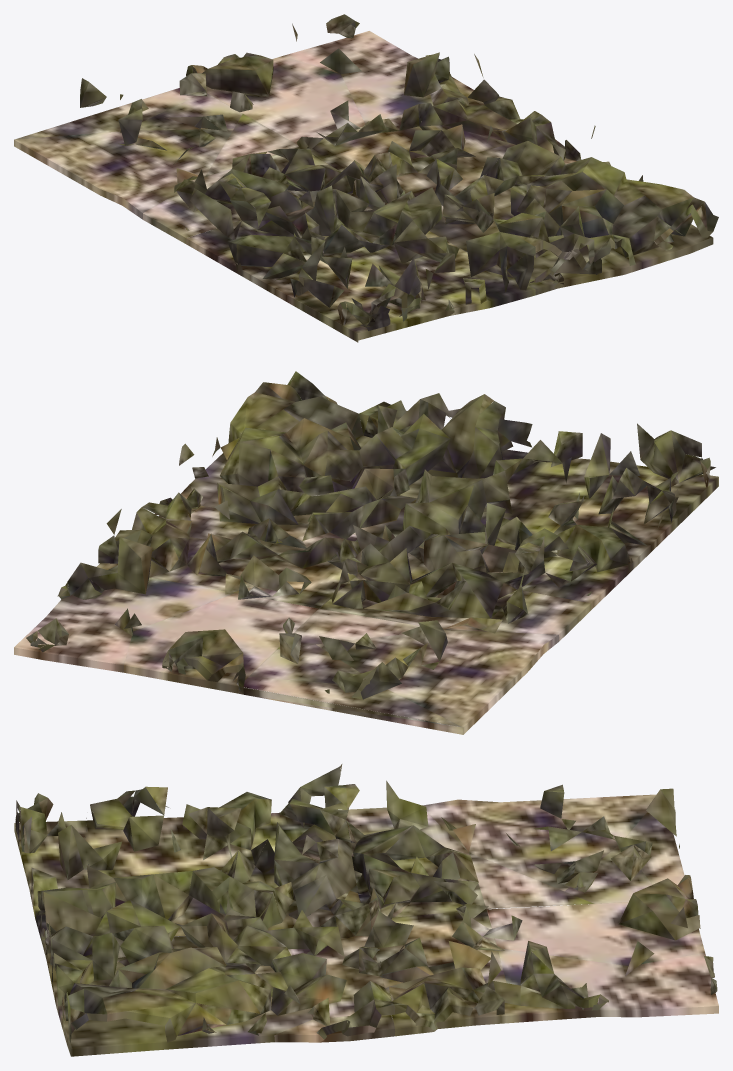
3 views of the same model, one above another, from view 1: azimuth 30°, elevation 25°; view 2: azimuth 150°, elevation 25°; view 3: azimuth 270°, elevation 25° (orthographic). The views are drawn at different scales.
Parts seen in each view (by area): view 1: Mesh_0; view 2: Mesh_0; view 3: Mesh_0.
Boxes of the visible parts, x1,y1,x2,y2 form: Mesh_0: (14, 14, 718, 342); Mesh_0: (14, 371, 718, 734); Mesh_0: (14, 764, 718, 1056).
Bounding box in the file's own units: 270 × 40.96 × 330.
2 materials, 2 textured.
